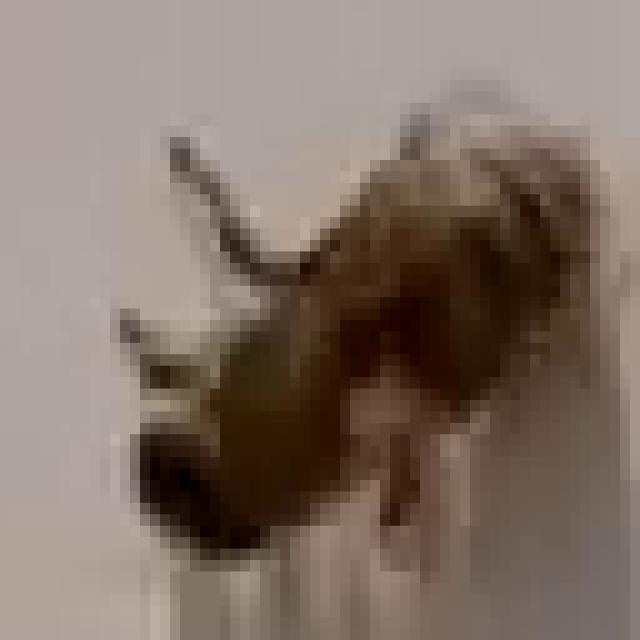honeybee: (134, 96, 559, 573)
